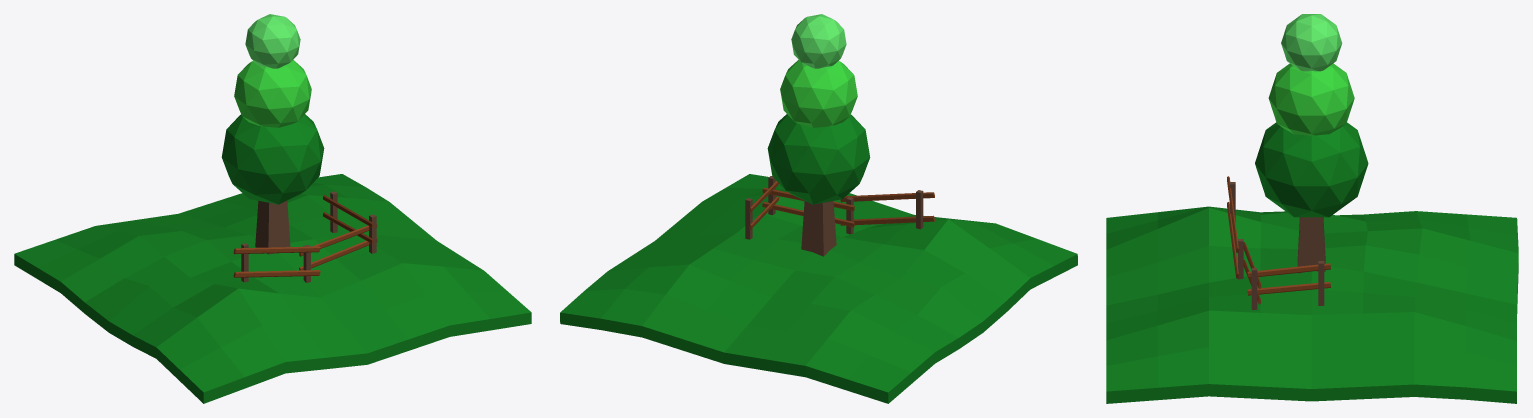
File: ARBOLITO.gltf
3 views of the same model, side by side, from view 1: azimuth 30°, elevation 25°; view 2: azimuth 150°, elevation 25°; view 3: azimuth 270°, elevation 25° (orthographic). The views are drawn at different scales.
Visible parts, largest first — view 1: Plane, Icosphere.002, Icosphere, Icosphere.001, Cube.001, Cube, Line.002, Line.001; view 2: Plane, Icosphere.002, Icosphere, Icosphere.001, Cube.001, Cube, Line.001, Line.002; view 3: Plane, Icosphere.002, Icosphere, Icosphere.001, Cube.001, Cube, Line.005, Line.006.
Boxes of the visible parts, x1,y1,x2,y2 form: Plane: [14, 174, 531, 403]; Icosphere.002: [221, 114, 324, 204]; Icosphere: [234, 59, 311, 127]; Icosphere.001: [245, 14, 300, 68]; Cube.001: [255, 201, 290, 254]; Cube: [241, 191, 376, 282]; Line.002: [233, 270, 320, 277]; Line.001: [233, 246, 320, 254]; Plane: [560, 174, 1077, 403]; Icosphere.002: [767, 114, 870, 204]; Icosphere: [780, 59, 857, 127]; Icosphere.001: [791, 14, 846, 68]; Cube.001: [801, 201, 836, 256]; Cube: [745, 176, 923, 239]; Line.001: [840, 192, 934, 202]; Line.002: [841, 215, 934, 225]; Plane: [1106, 206, 1518, 403]; Icosphere.002: [1255, 122, 1368, 217]; Icosphere: [1268, 63, 1354, 135]; Icosphere.001: [1281, 14, 1342, 71]; Cube.001: [1297, 217, 1325, 273]; Cube: [1230, 182, 1324, 309]; Line.005: [1247, 263, 1330, 277]; Line.006: [1247, 281, 1330, 295].
Bounding box in the file's own units: 6.05 × 4.92 × 6.07.
